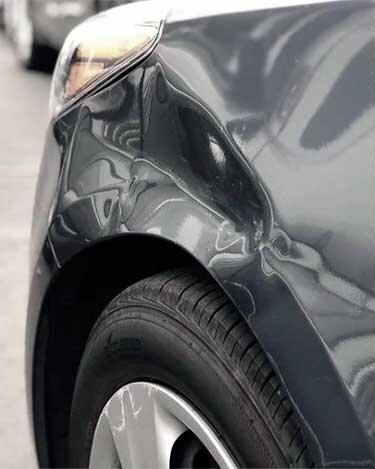dent: (61, 59, 363, 298)
